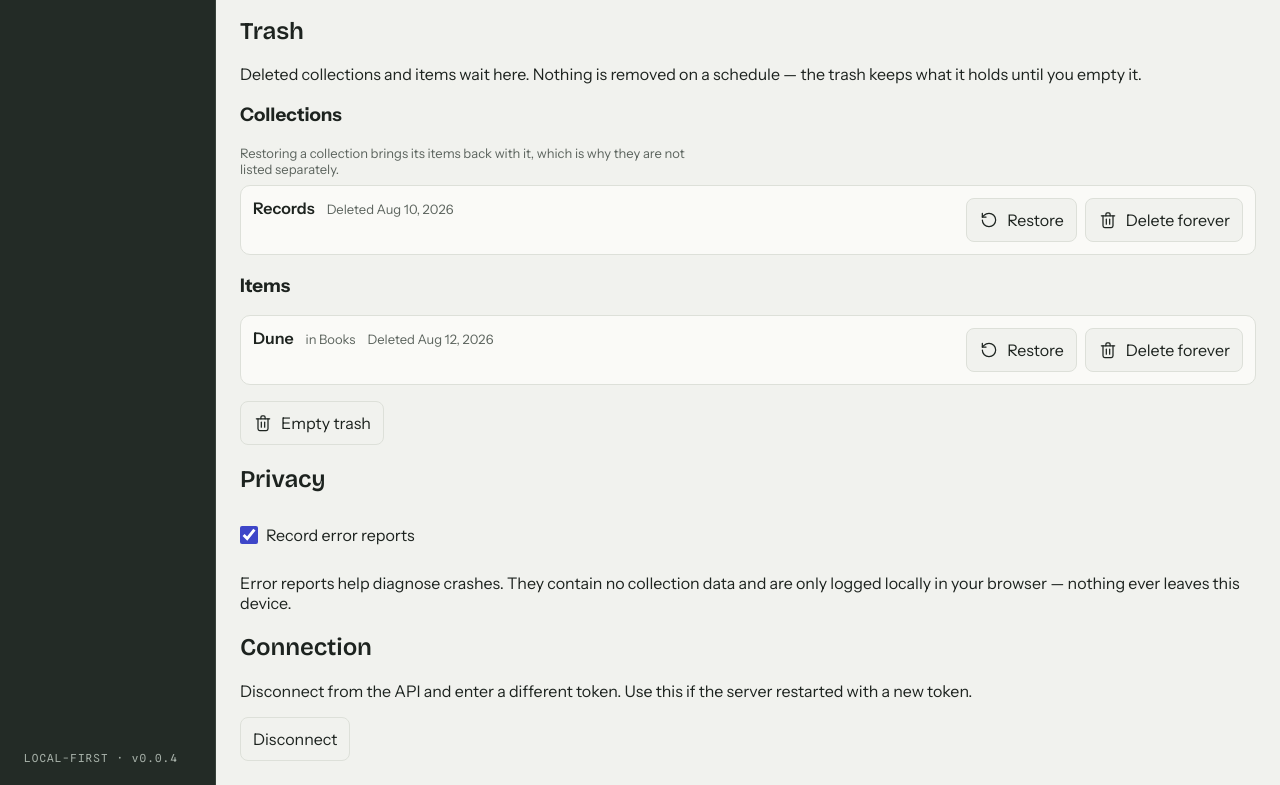
Scenario: Settings empty trash › reports a failed empty
The width and height of the screenshot is (1280, 785).
(page scrolled)
Click the button "Empty trash" at (312, 423), box left=240, top=401, right=384, bottom=445
(page scrolled)
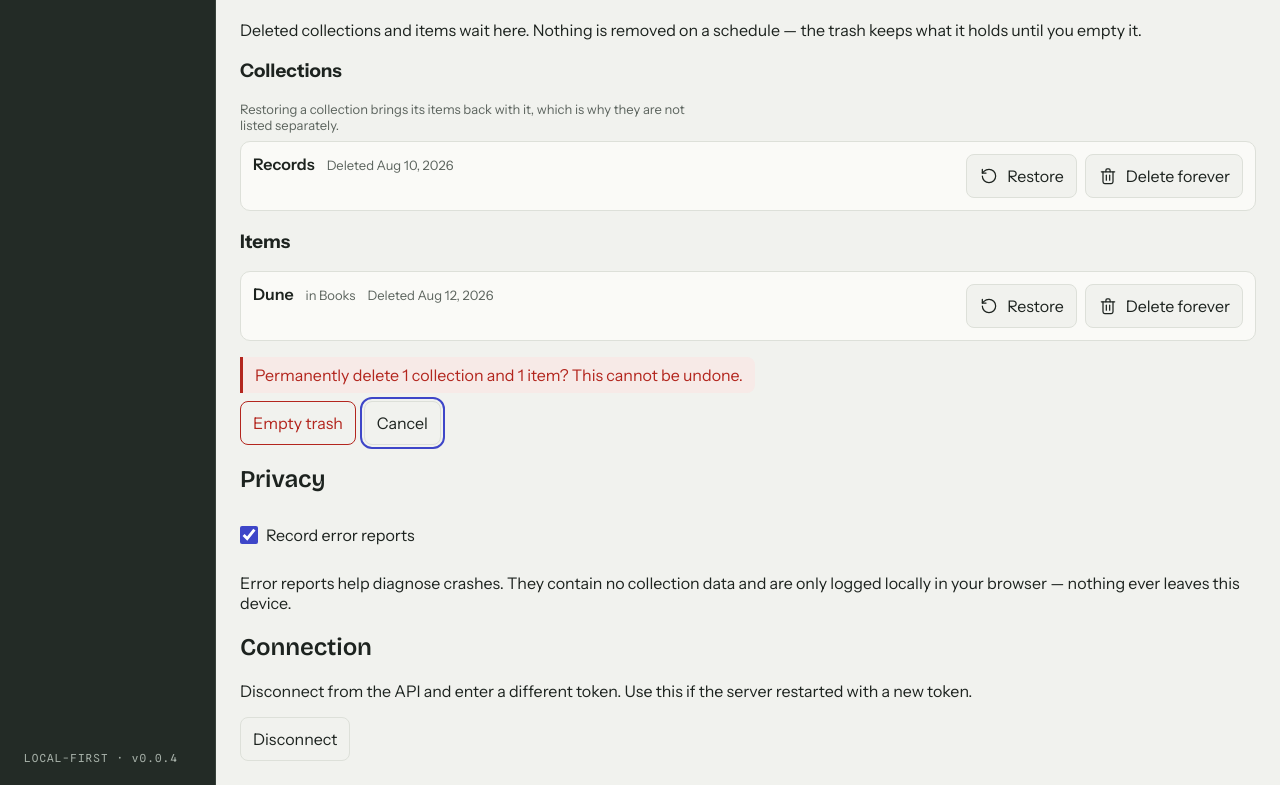
Click the button "Empty trash" at (298, 423), box left=240, top=401, right=356, bottom=445
(page scrolled)
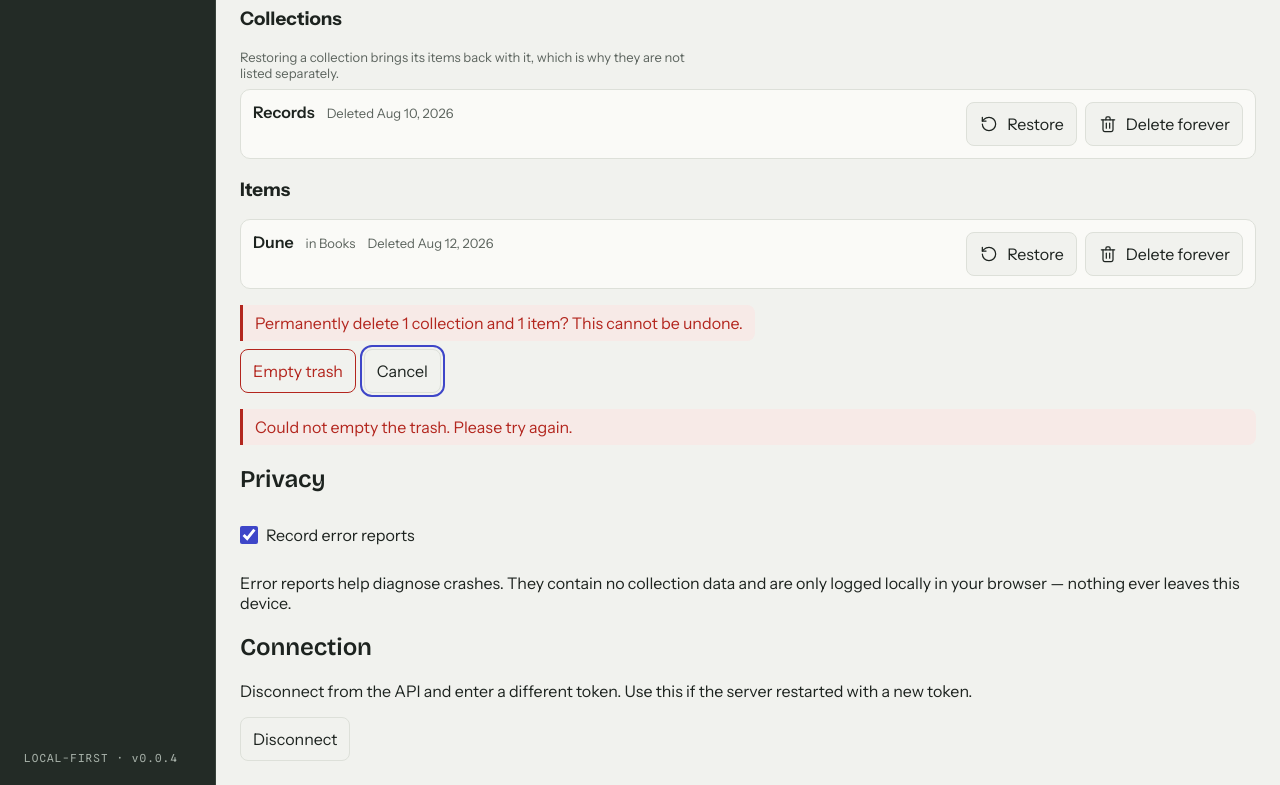
Result: the text "Could not empty the trash. Please try again." is shown at left=240, top=409, right=1256, bottom=445
